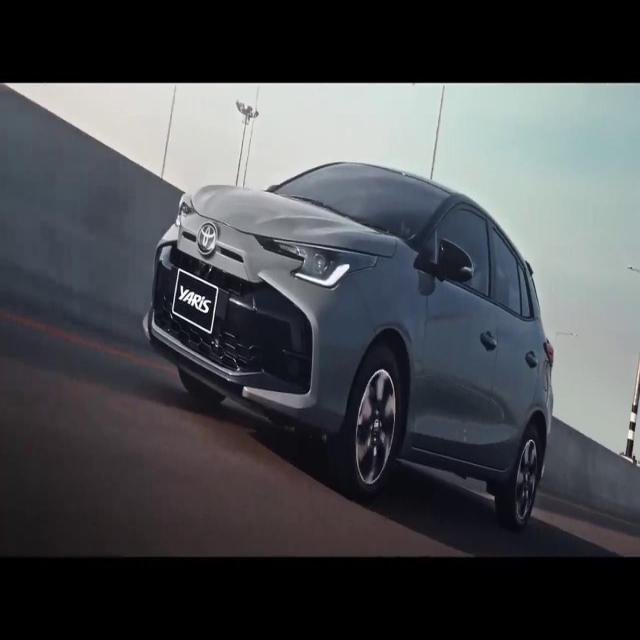Hatchback: (144, 163, 553, 531)
